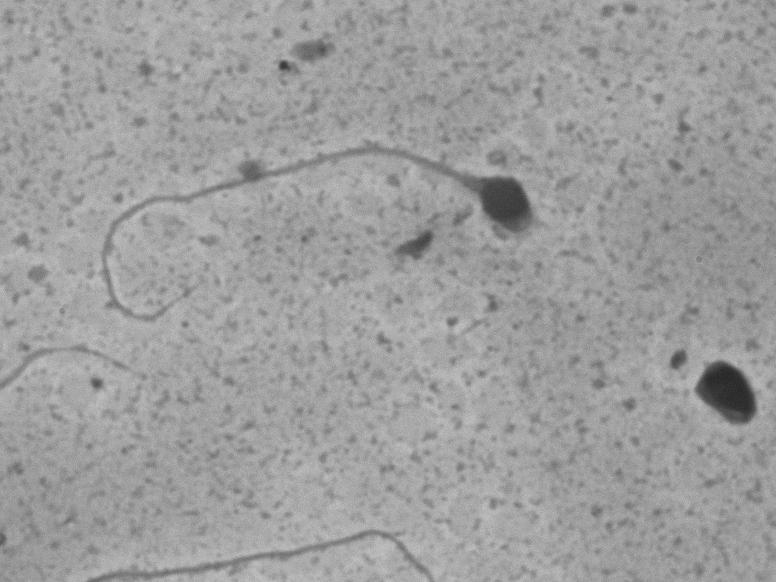Abnormal: (73, 129, 567, 348)
